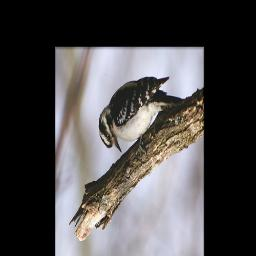Woodpecker: (93, 69, 185, 156)
